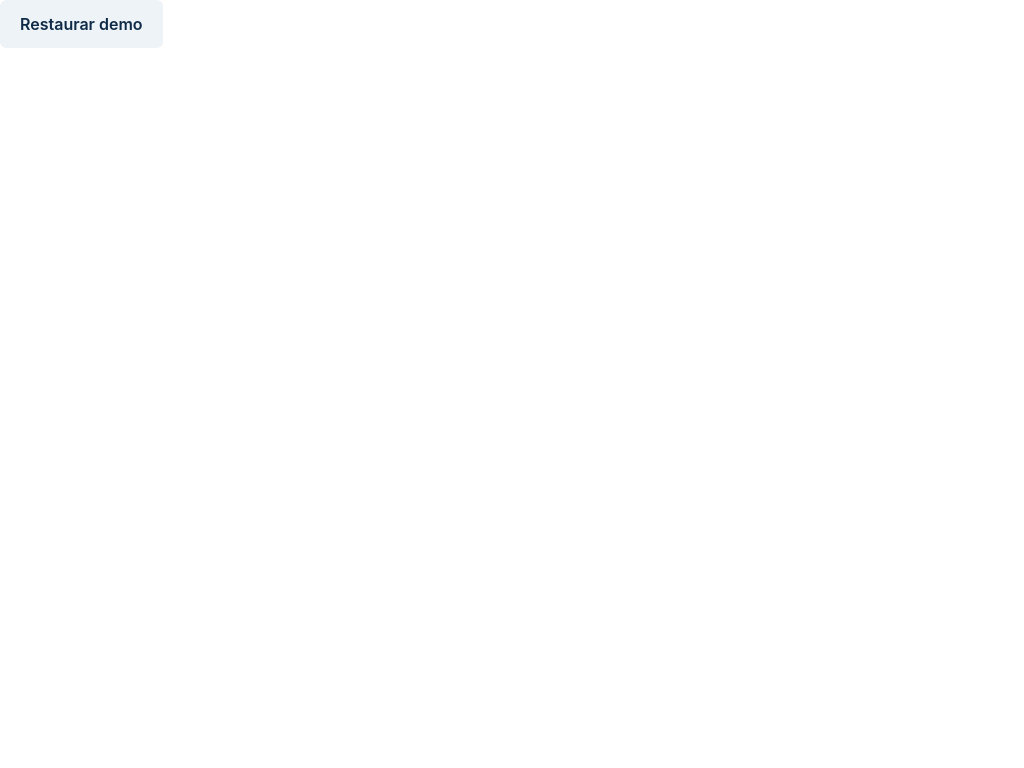
al confirmar restaura, cierra y refresca el resumen
Click the button "Restaurar demo".
click(81, 24)  # box x1=0 y1=0 x2=163 y2=48
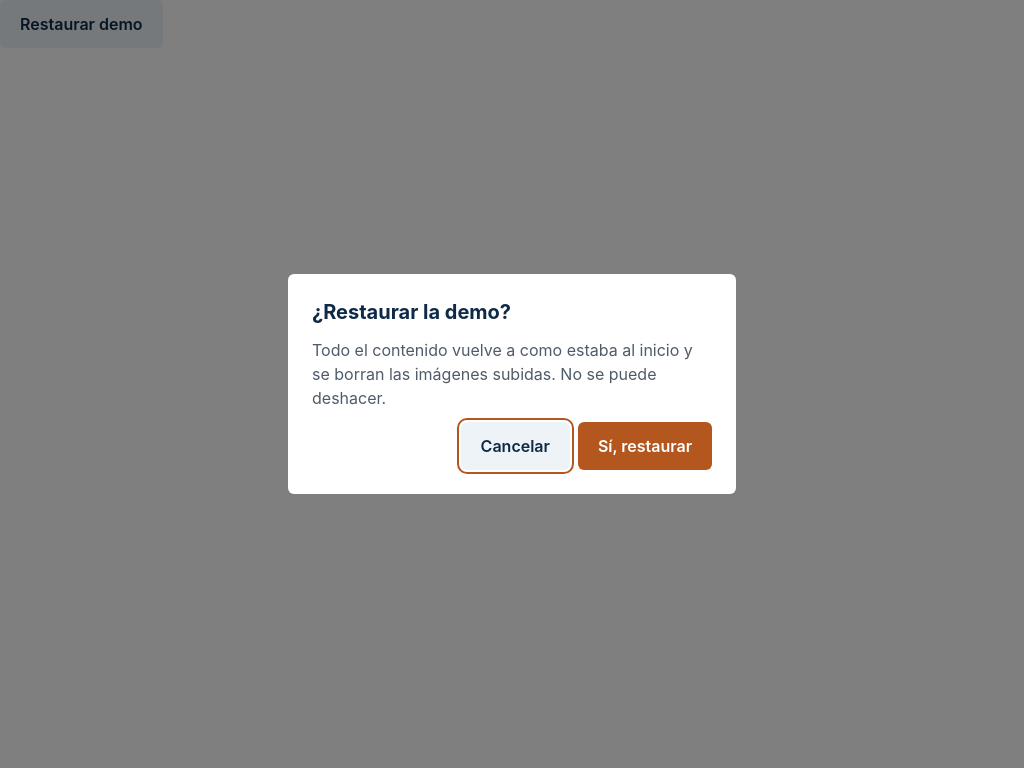
Click the button "Sí, restaurar".
click(645, 446)  # box x1=578 y1=422 x2=712 y2=470
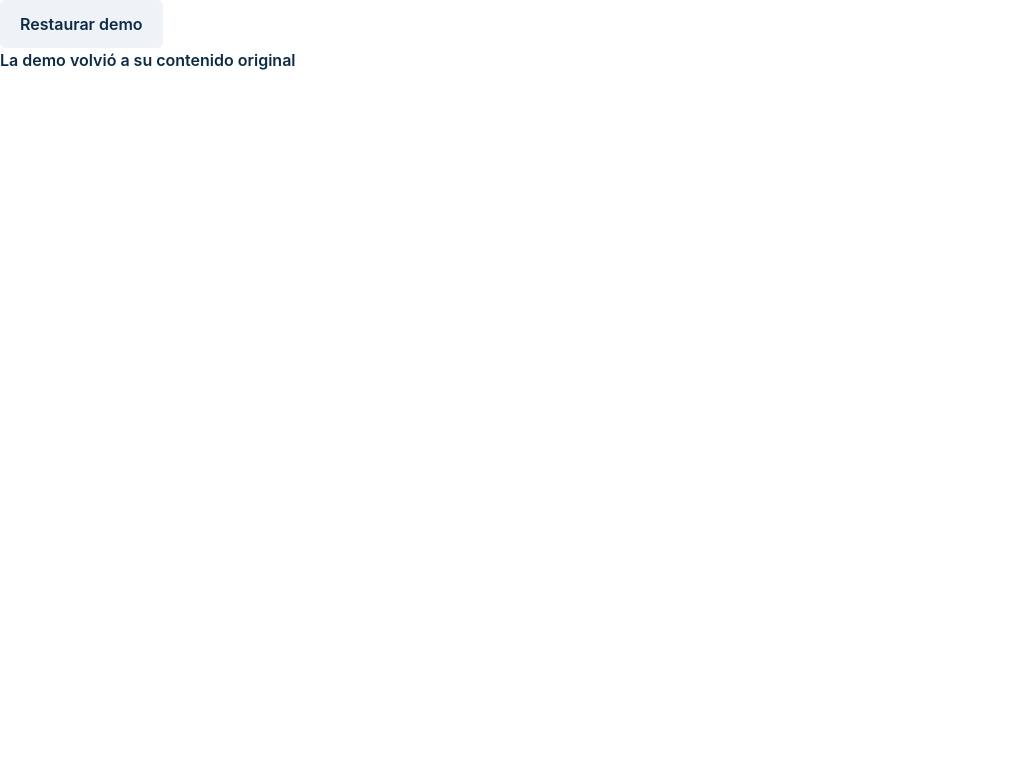
Check: the message reads "La demo volvió a su contenido original", box x1=0 y1=50 x2=296 y2=70
Check: the dialog is gone
